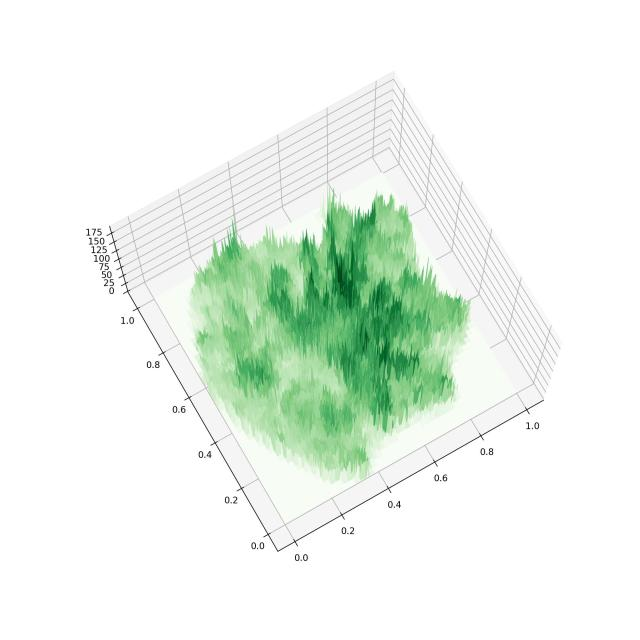spruce: (18, 52, 618, 594)
